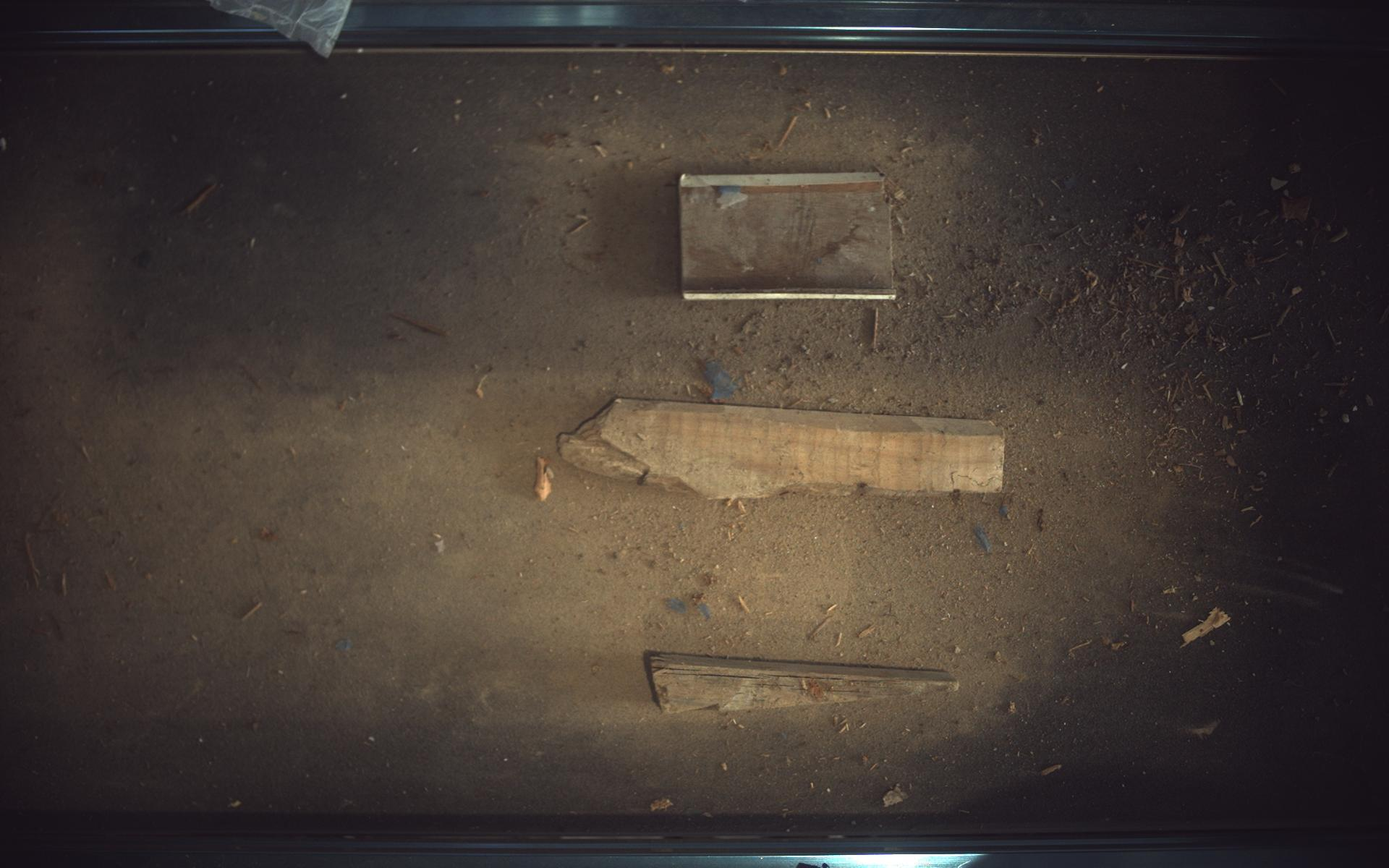wood: (559, 399, 1005, 501), (681, 171, 898, 299), (647, 653, 961, 715)
